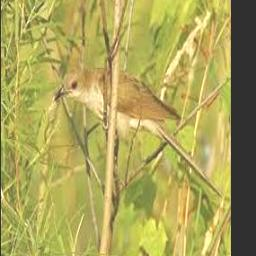Cuckoo: (55, 68, 223, 198)
